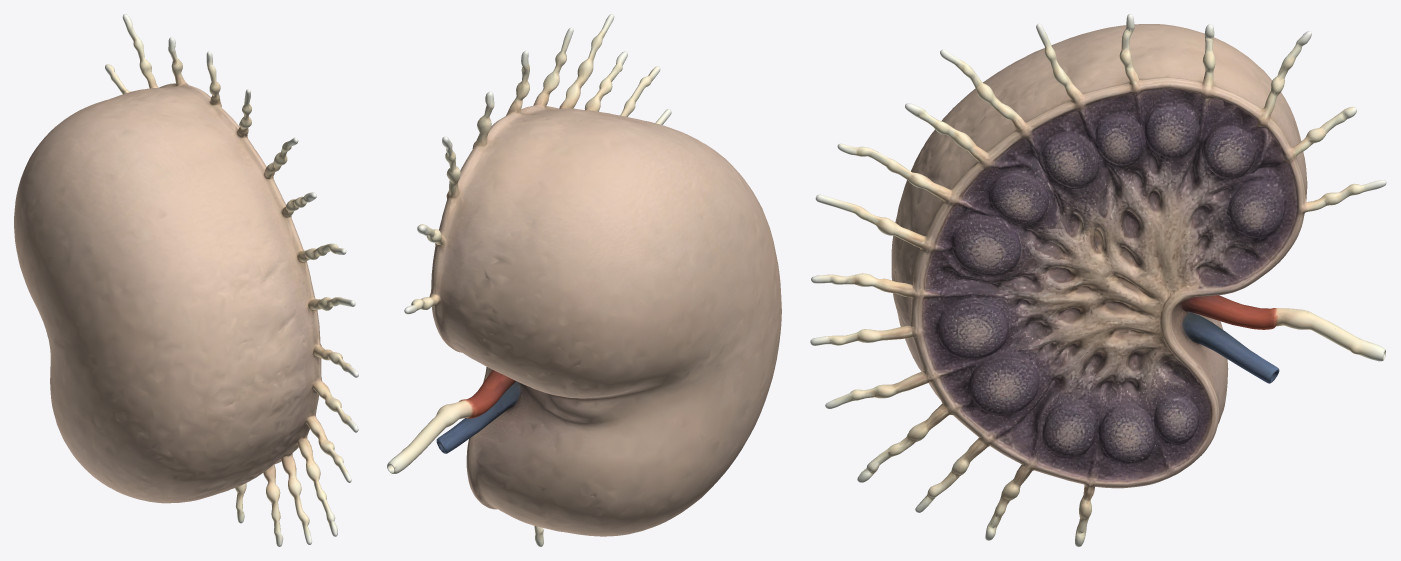
File: lymph-node.glb
3 views of the same model, side by side, from view 1: azimuth 30°, elevation 25°; view 2: azimuth 150°, elevation 25°; view 3: azimuth 270°, elevation 25° (orthographic). The views are drawn at different scales.
Parts seen in each view (by area): view 1: tripo_node_d84204ac-b162-4197-8988-7f0257cbc588; view 2: tripo_node_d84204ac-b162-4197-8988-7f0257cbc588; view 3: tripo_node_d84204ac-b162-4197-8988-7f0257cbc588.
Boxes of the visible parts, left/top/right/bottom form: tripo_node_d84204ac-b162-4197-8988-7f0257cbc588: left=14, top=14, right=358, bottom=546; tripo_node_d84204ac-b162-4197-8988-7f0257cbc588: left=387, top=14, right=781, bottom=546; tripo_node_d84204ac-b162-4197-8988-7f0257cbc588: left=810, top=14, right=1386, bottom=546.
Size of the model in its own units: 0.4521 by 0.9997 by 0.9903.
Materials: 1 (1 with a texture image).
